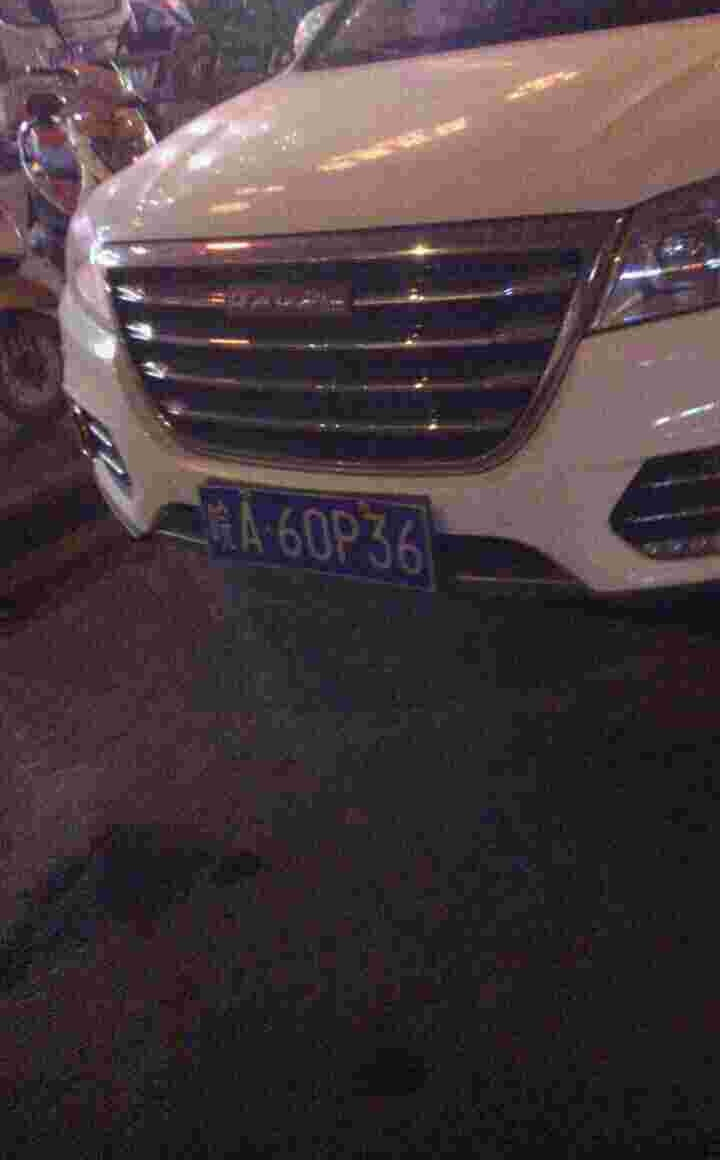plate: (194, 480, 440, 588)
